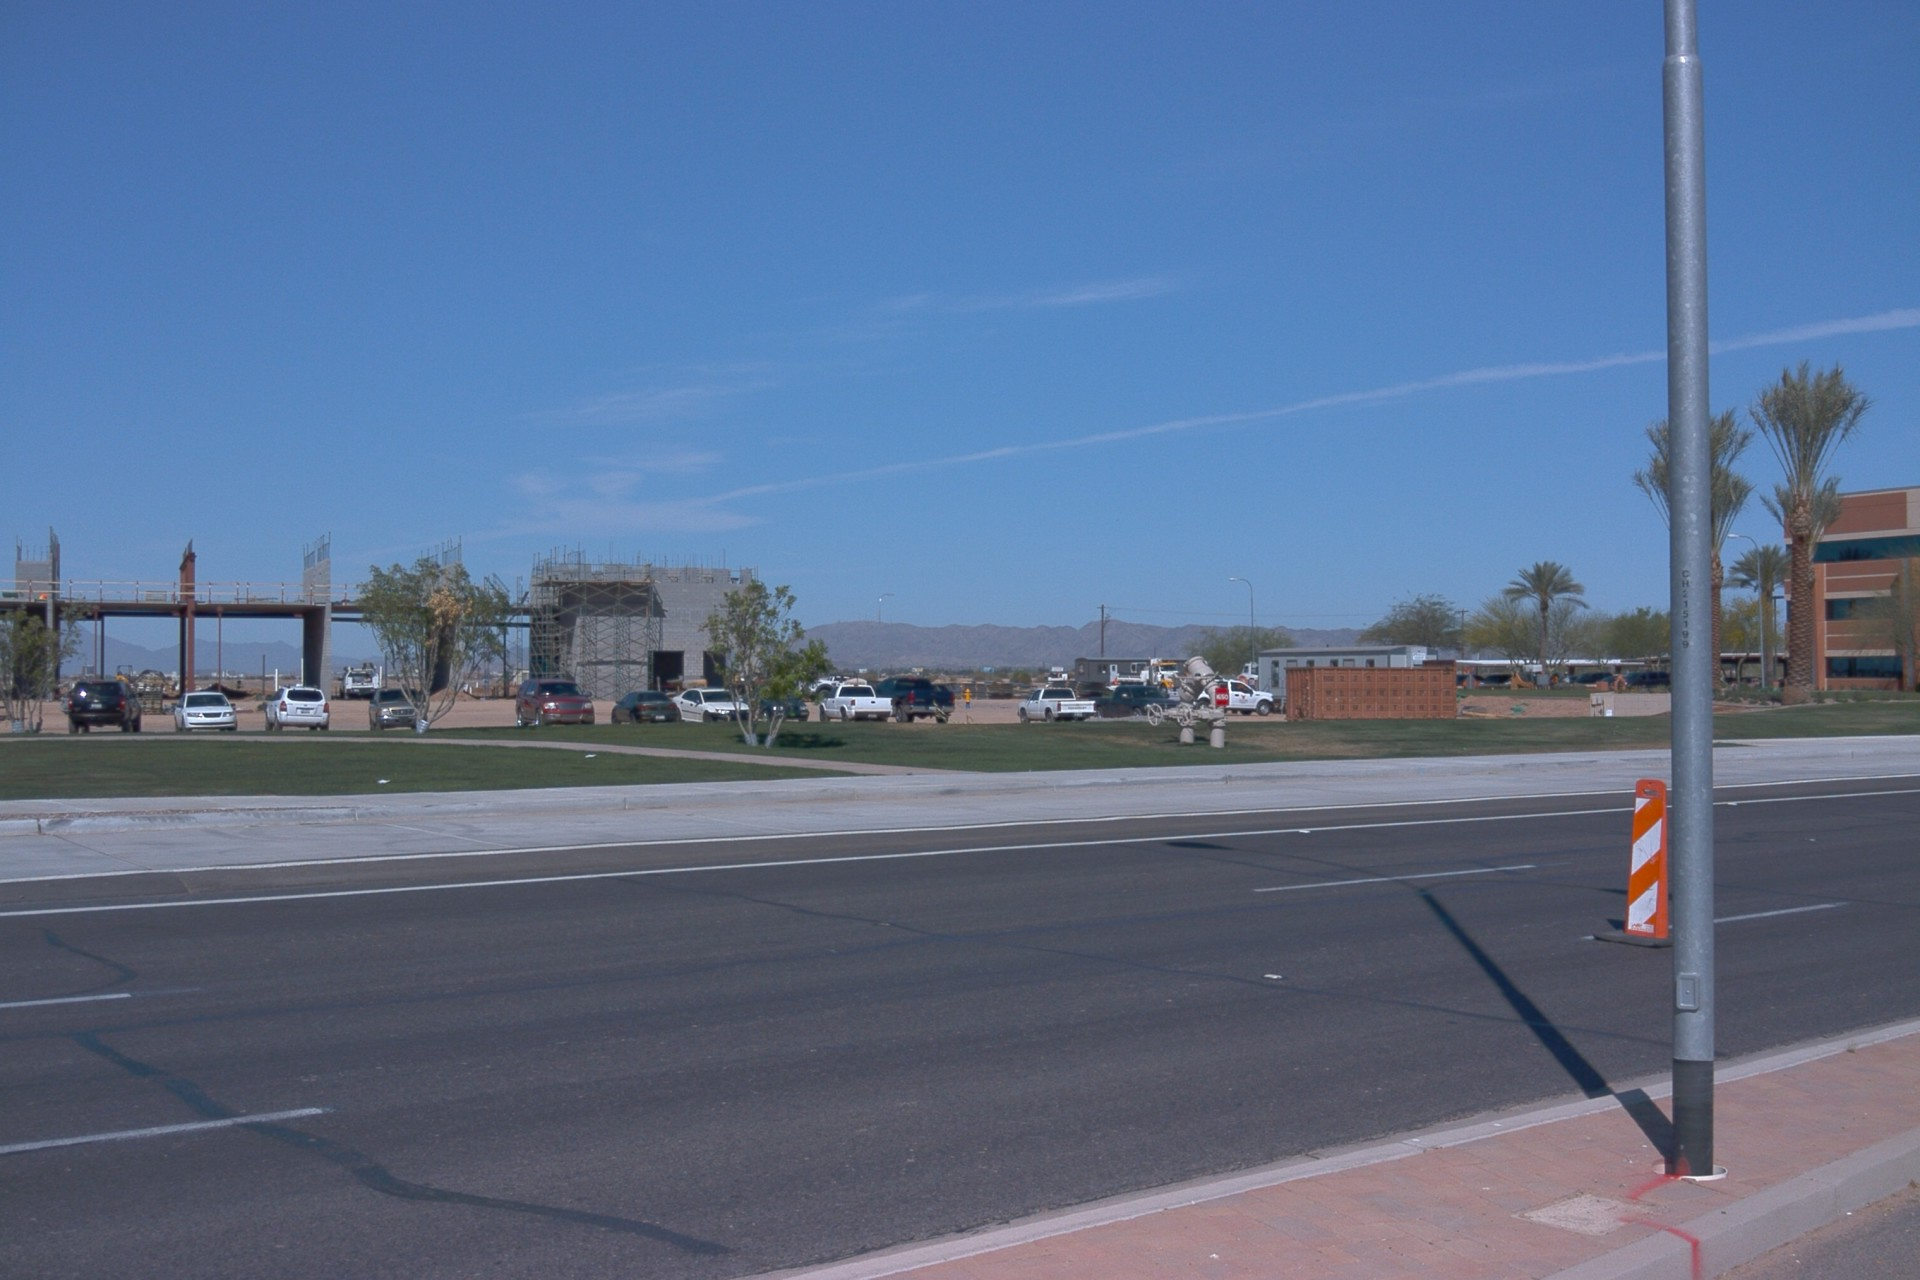TYPE_PEDESTRIAN: (1560, 672, 1571, 686), (1111, 675, 1121, 687), (1551, 674, 1559, 687)
TYPE_VEHICLE: (1166, 677, 1277, 720), (731, 670, 843, 711), (65, 674, 142, 733), (514, 673, 595, 724), (873, 673, 954, 724), (673, 684, 756, 726), (262, 683, 330, 734), (1015, 682, 1095, 725), (365, 682, 431, 734), (610, 684, 685, 728), (819, 682, 895, 725), (1086, 681, 1178, 716), (172, 691, 240, 737), (742, 683, 809, 727), (1112, 660, 1179, 694), (333, 660, 382, 704), (117, 665, 180, 699), (1624, 673, 1671, 694), (1469, 673, 1512, 691), (1575, 675, 1621, 688), (1237, 666, 1259, 690), (1451, 676, 1485, 690), (840, 679, 871, 690), (829, 677, 852, 690)
